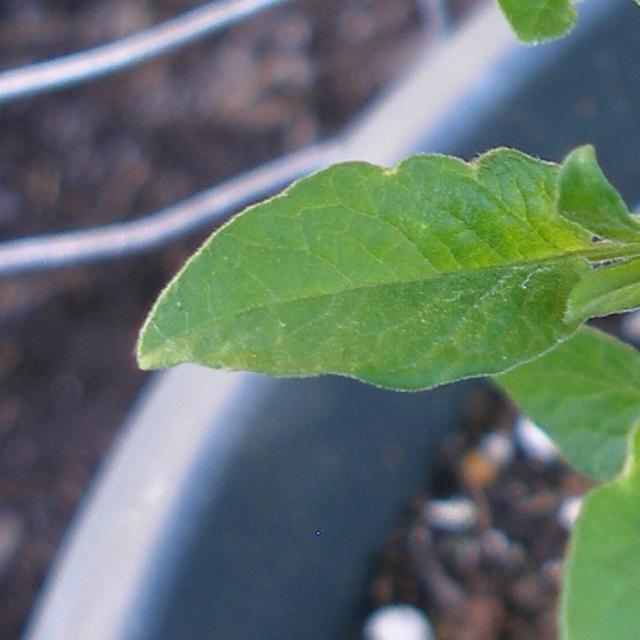Tomato leaf: (57, 56, 542, 467), (549, 379, 640, 640), (88, 0, 634, 33)
